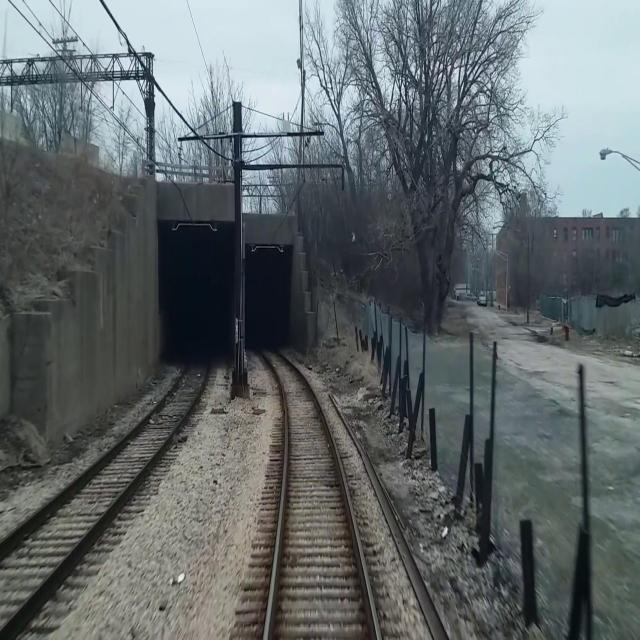rail-track: (0, 351, 207, 623), (258, 345, 376, 639)
